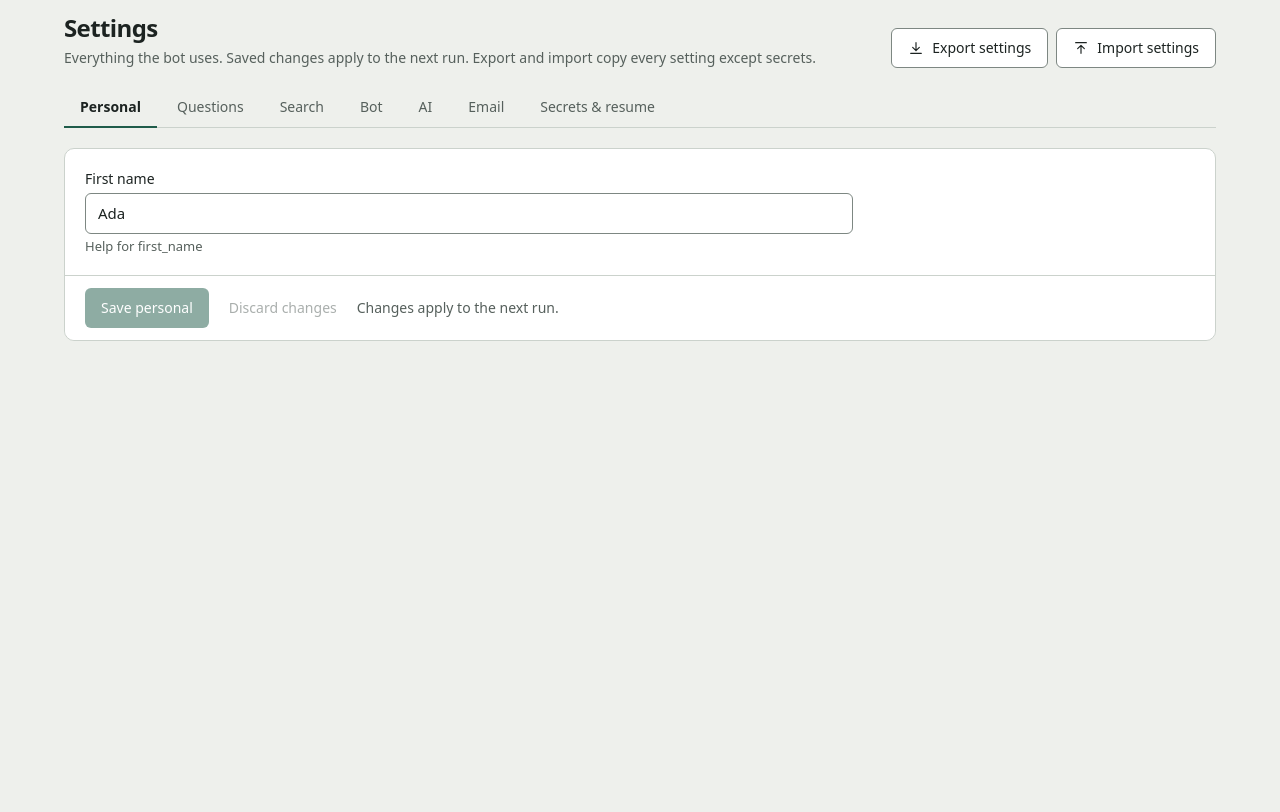
Test: saves only changed fields and confirms next run
The image size is (1280, 812).
Click the tab "Search" at (302, 108), box [264,88,340,128]
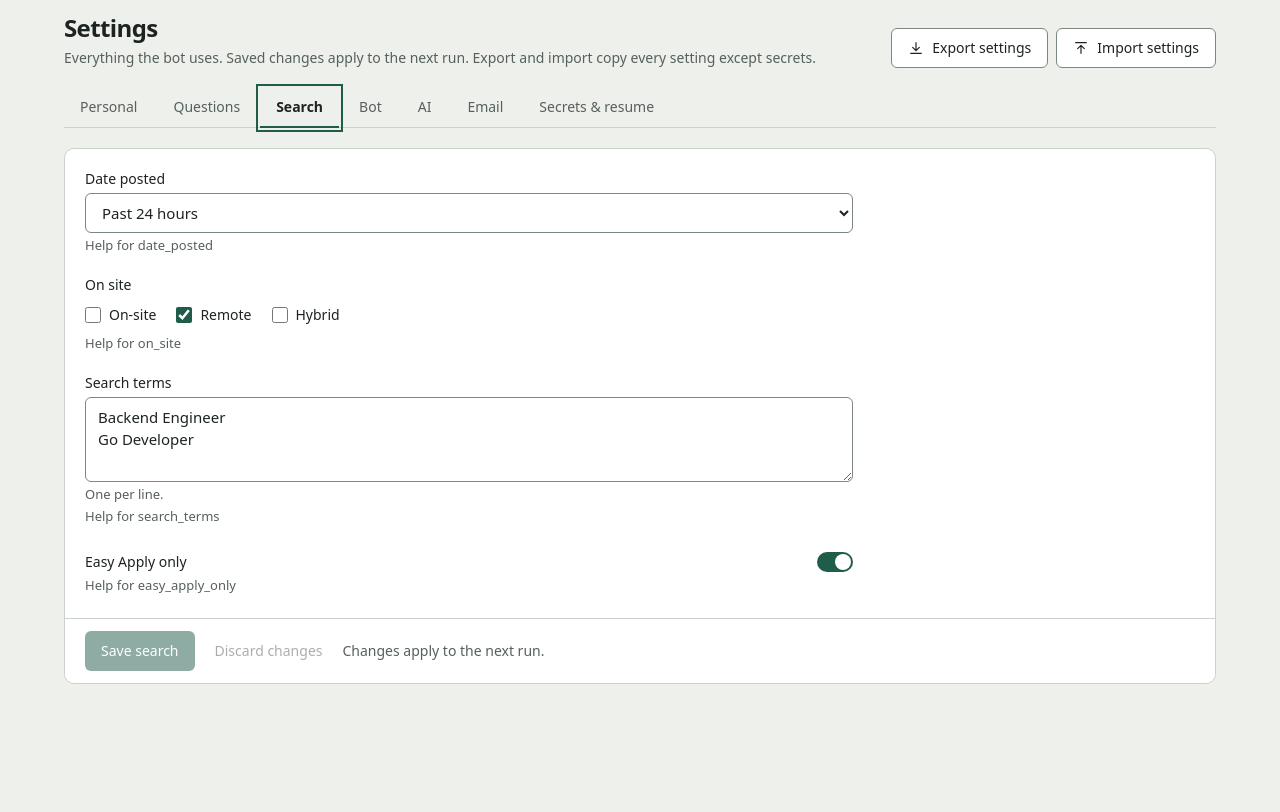
Replace the text in the text box labelled "Search terms" with "Rust Developer" at (469, 440), box [85,397,853,482]
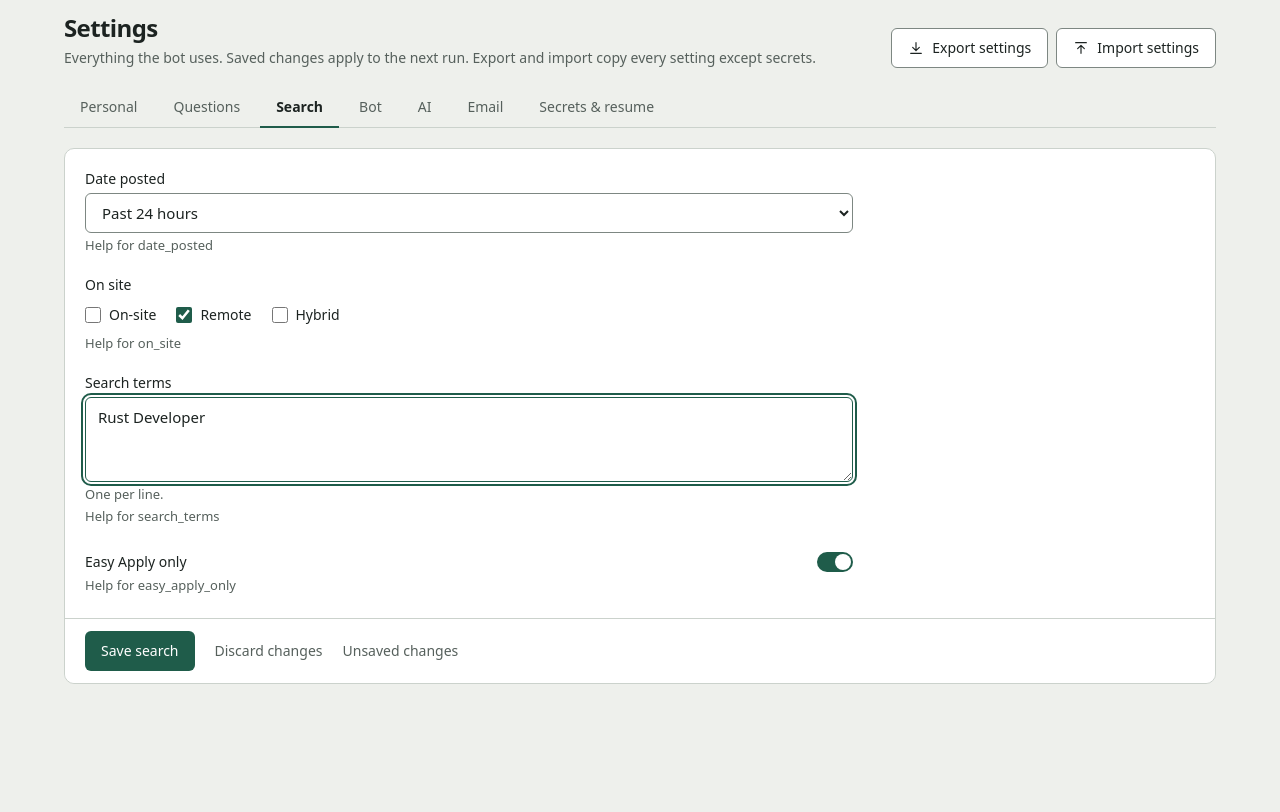
Click the button "Save search" at (140, 651), box [85,631,194,671]
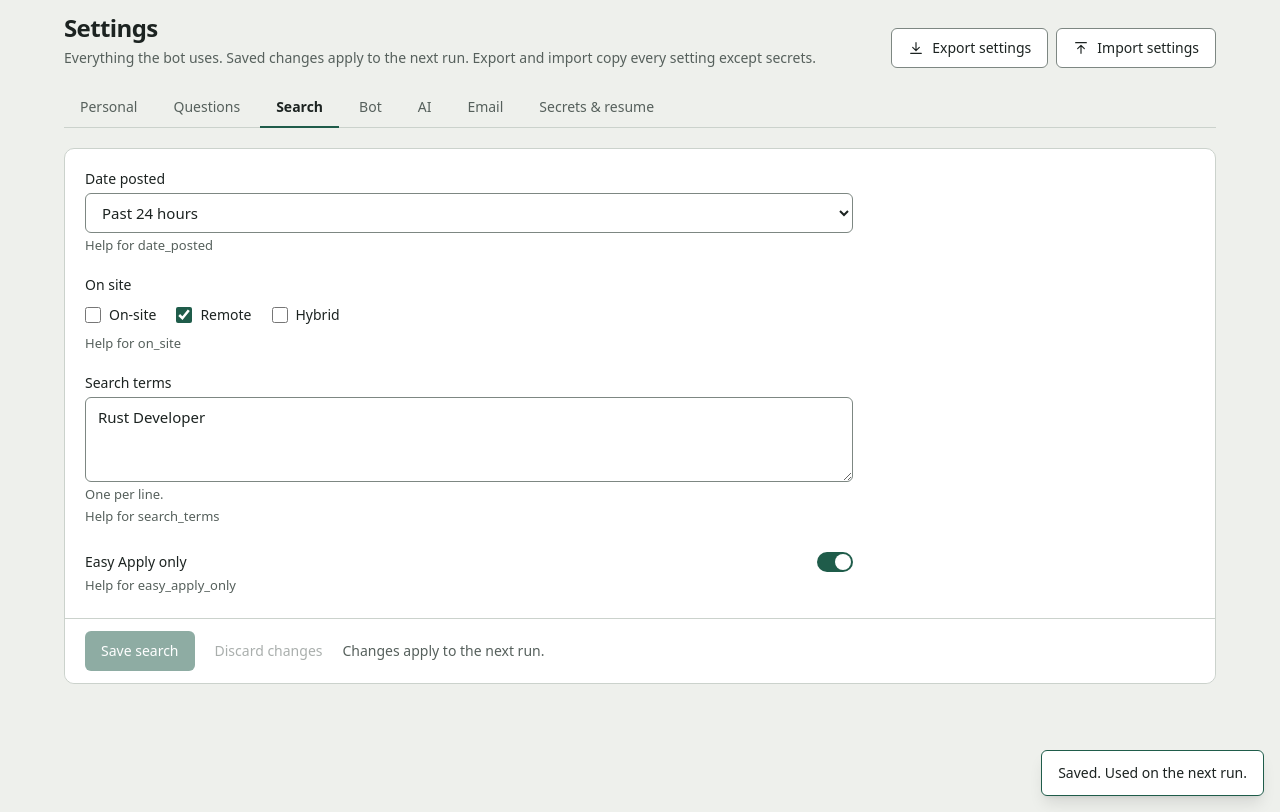
Expected: the text "Saved. Used on the next run." is shown, [1041,750,1264,796]
